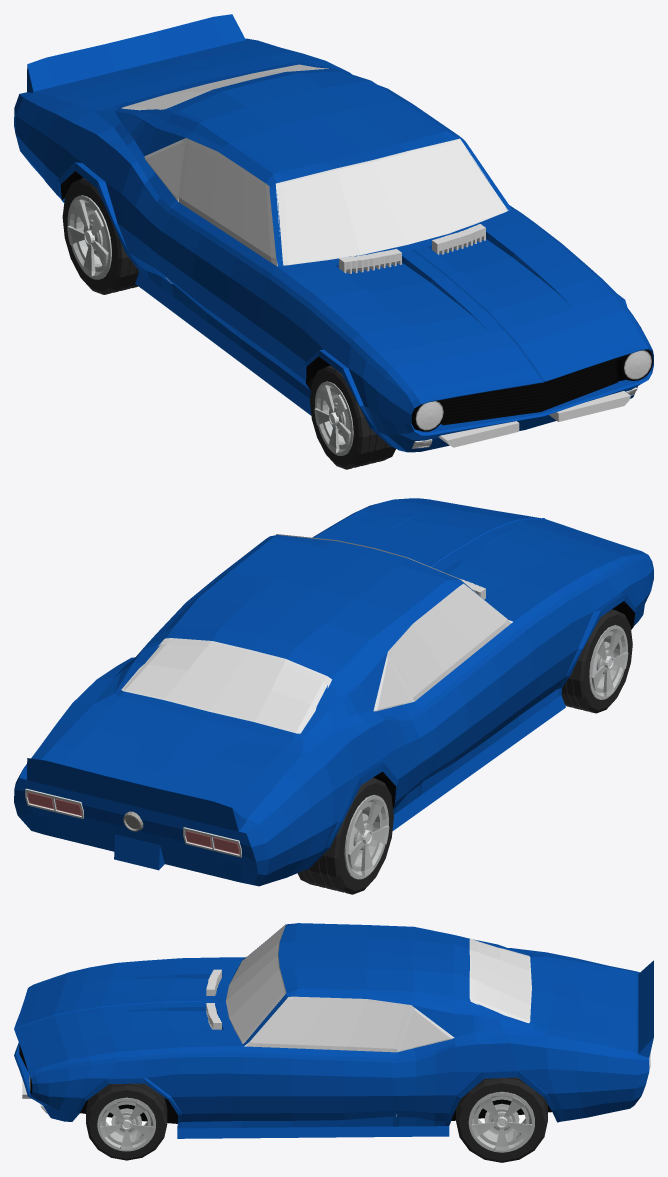
File: Car 2.fbx
3 renders of one model, top to bottom at view 1: azimuth 30°, elevation 25°; view 2: azimuth 150°, elevation 25°; view 3: azimuth 270°, elevation 25°, orthographic. The views are drawn at different scales.
Visible parts, largest first — view 1: Carroceria.001, Parabrisas_Ad, Pueratas, Ventana_1, Rejilla, Ruedas_Ad.002, Ruedas_Tr, Rin_1_Tr, Plano.002, Rin_1_Ad, Cubo, Parabrisas_Tr (+4 smaller); view 2: Carroceria.001, Parabrisas_Tr, Pueratas, Ventana_1, Ruedas_Tr, Ruedas_Ad.002, Rin_1_Tr, Rin_1_Ad, Luz_Tr, Marco_Parabrisad_Tr, Ventana_2; view 3: Carroceria.001, Pueratas, Ventana_1, Parabrisas_Ad, Parabrisas_Tr, Ruedas_Tr.001, Ruedas_Ad.001, Rin_1_Tr.001, Rin_1_Ad.001, Ventana_2, Cubo, Marco_Ventana_2 (+2 smaller).
Part boxes in pixels (x1,y1,x2,y2): Carroceria.001: (14,14,653,452); Parabrisas_Ad: (277,140,507,264); Pueratas: (156,202,519,367); Ventana_1: (178,138,277,266); Rejilla: (441,358,617,425); Ruedas_Ad.002: (310,365,395,469); Ruedas_Tr: (62,178,139,294); Rin_1_Tr: (67,195,111,279); Plano.002: (438,391,630,447); Rin_1_Ad: (314,381,353,455); Cubo: (339,224,485,273); Parabrisas_Tr: (124,65,326,109); Carroceria.001: (14,498,653,886); Parabrisas_Tr: (124,639,329,731); Pueratas: (415,622,540,780); Ventana_1: (388,583,511,701); Ruedas_Tr: (297,778,393,894); Ruedas_Ad.002: (561,609,632,713); Rin_1_Tr: (344,794,389,879); Rin_1_Ad: (589,625,628,699); Luz_Tr: (25,788,241,857); Marco_Parabrisad_Tr: (121,638,331,733); Ventana_2: (377,659,411,709); Carroceria.001: (14,923,653,1138); Pueratas: (230,957,396,1120); Ventana_1: (245,996,411,1052); Parabrisas_Ad: (226,925,285,1043); Parabrisas_Tr: (471,939,530,1021); Ruedas_Tr.001: (456,1077,547,1162); Ruedas_Ad.001: (86,1083,167,1160); Rin_1_Tr.001: (468,1091,534,1152); Rin_1_Ad.001: (97,1097,155,1151); Ventana_2: (400,1010,450,1049); Cubo: (206,969,221,1029); Marco_Ventana_2: (397,1005,454,1052).
Size of the model in its own units: 392 by 268 by 985.
